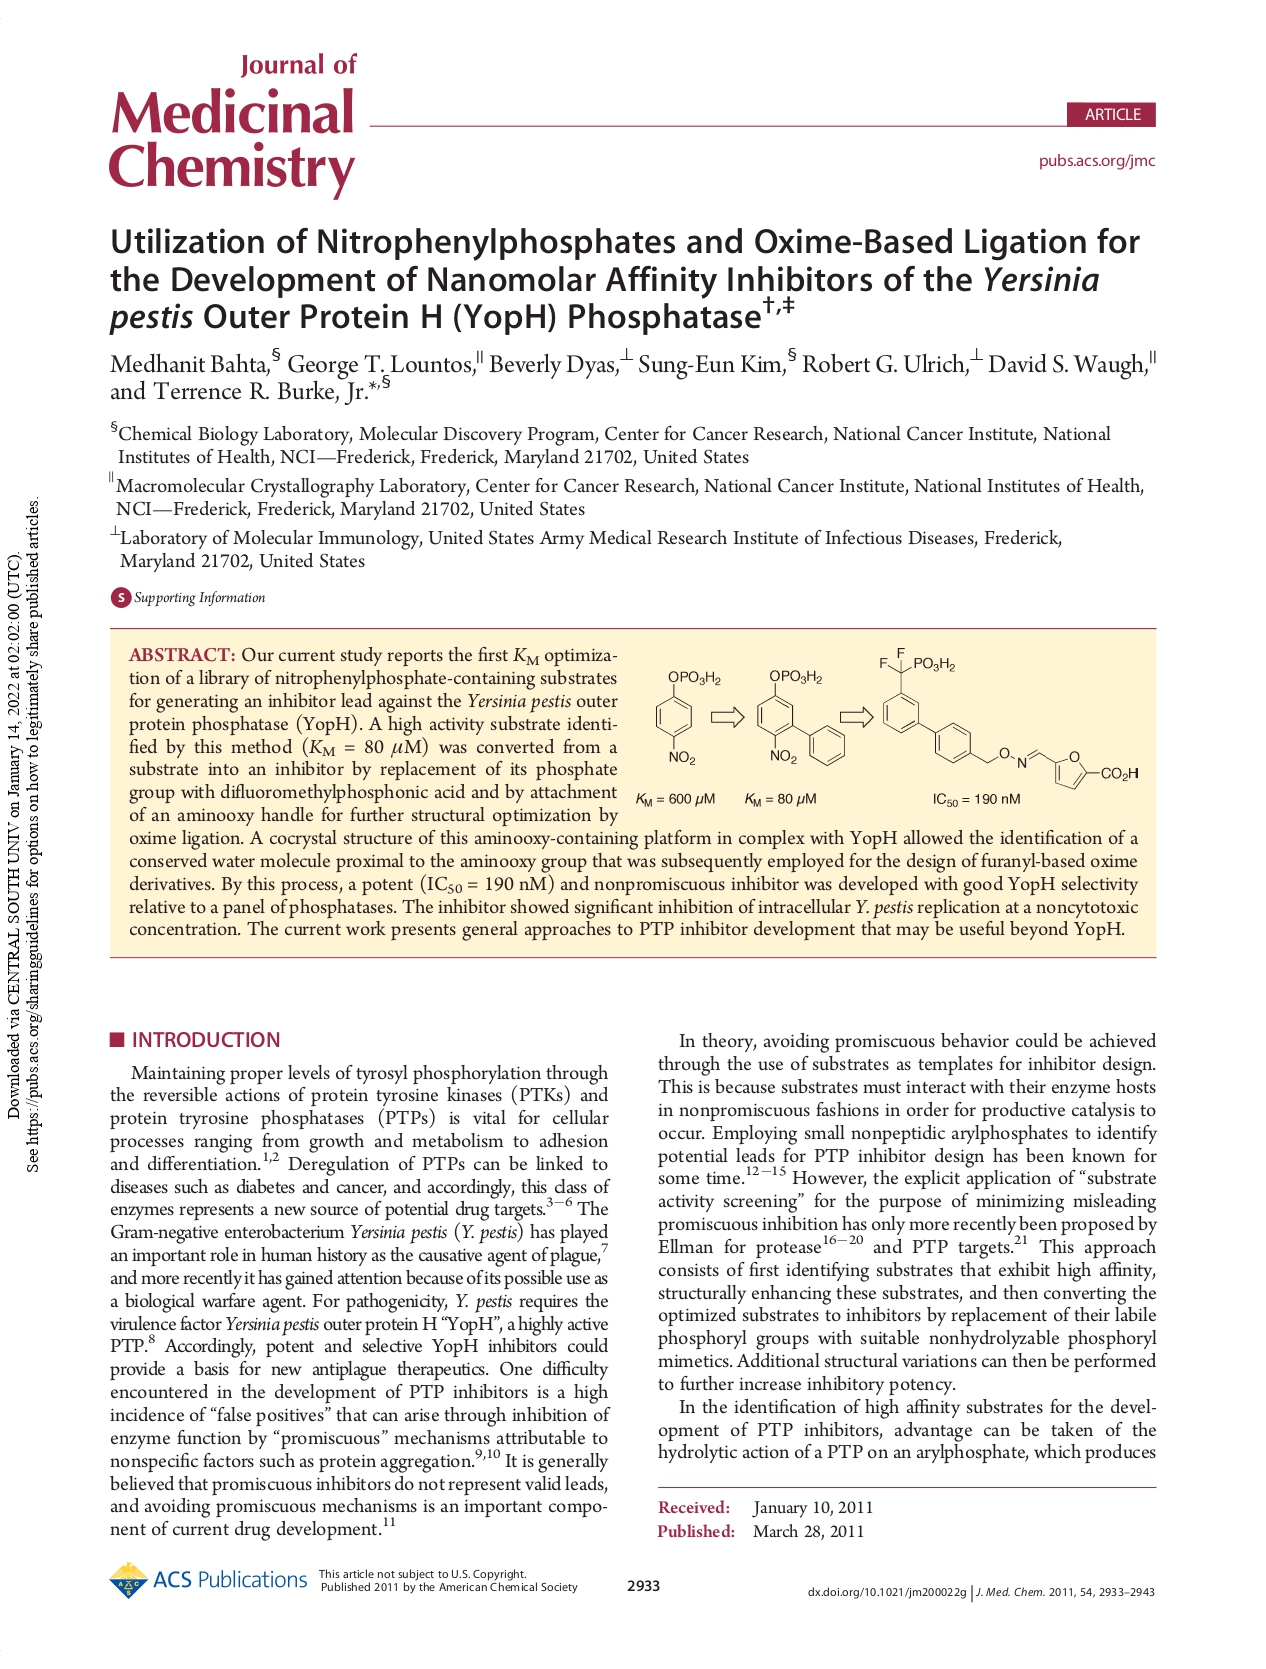exist_molecular: (876, 642, 1141, 791), (751, 662, 848, 774), (649, 666, 723, 770)
